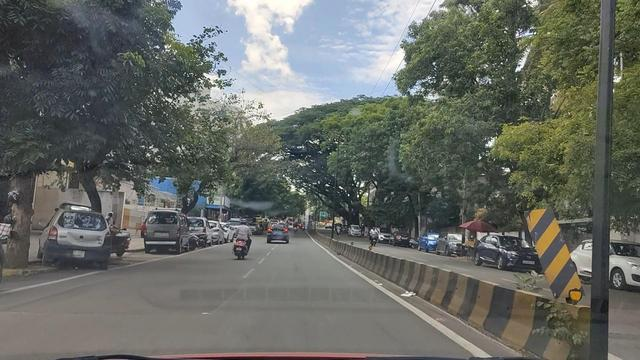LMV: (53, 203, 122, 267), (232, 213, 257, 261)
